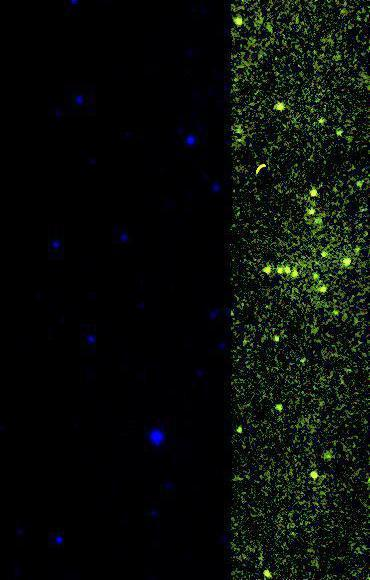star: (331, 0, 361, 28)
